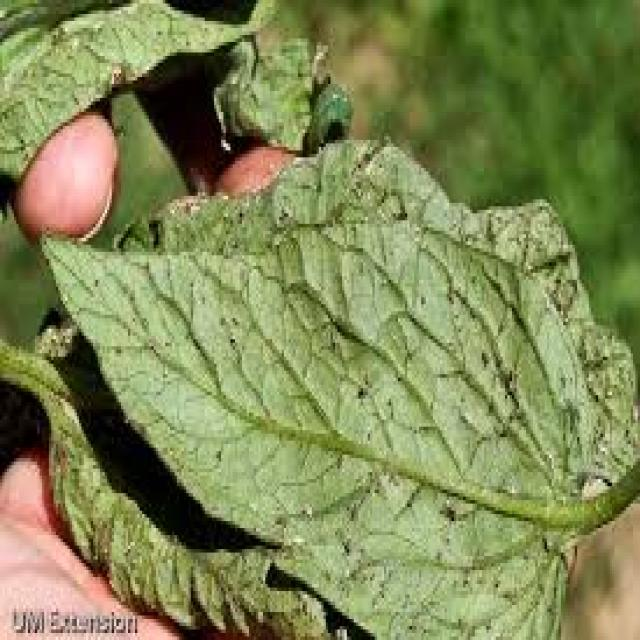aphid: (104, 328, 126, 364), (207, 437, 228, 472), (438, 493, 458, 528), (221, 297, 242, 329), (472, 336, 493, 367), (440, 273, 456, 311), (342, 493, 361, 525), (349, 374, 368, 402), (486, 566, 505, 594), (412, 280, 430, 308), (212, 301, 228, 329)
